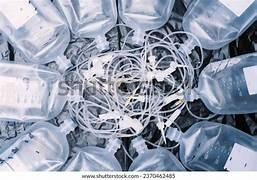Iv_Bottle: (0, 0, 70, 71), (166, 121, 256, 170), (185, 53, 257, 114), (0, 116, 75, 170), (0, 61, 66, 121), (182, 0, 256, 49), (54, 0, 117, 51), (118, 0, 174, 45), (62, 138, 121, 170), (129, 136, 184, 170)
